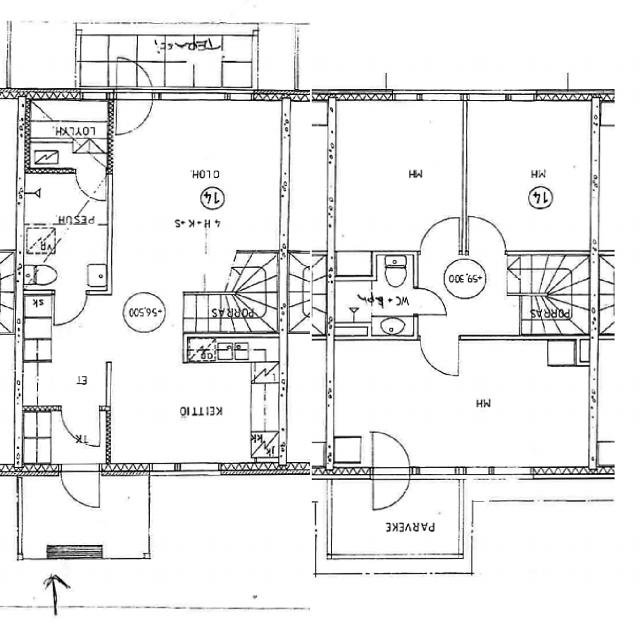door: (371, 466, 410, 517), (371, 430, 410, 480), (61, 464, 99, 514), (115, 53, 153, 99), (115, 89, 153, 135), (420, 212, 459, 255), (468, 212, 507, 255), (61, 406, 99, 448), (421, 335, 458, 376), (54, 290, 86, 325), (74, 168, 105, 202), (414, 286, 448, 316)
